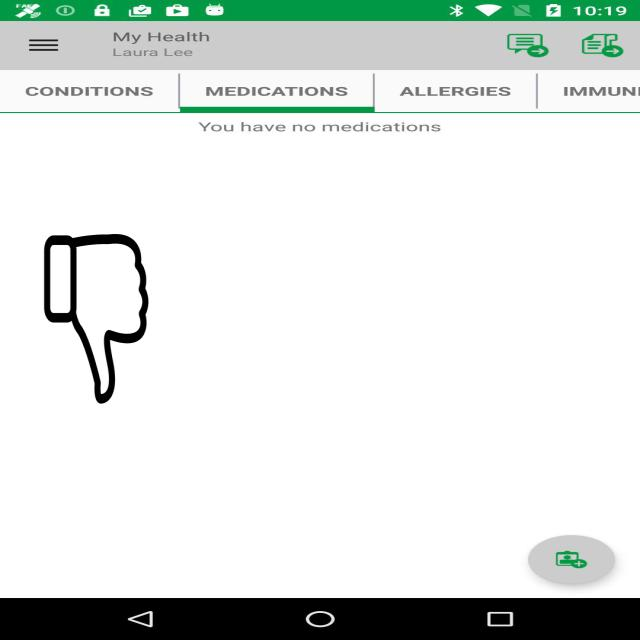obstruction: (43, 234, 150, 404)
